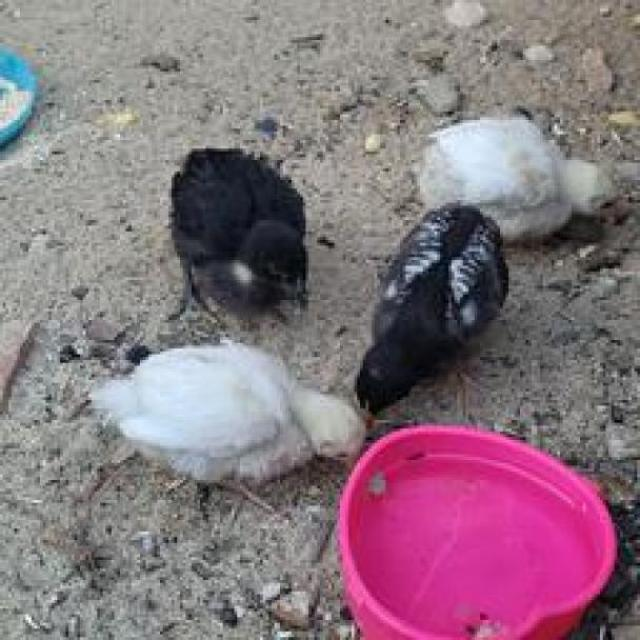Chicken: (105, 314, 109, 326)
